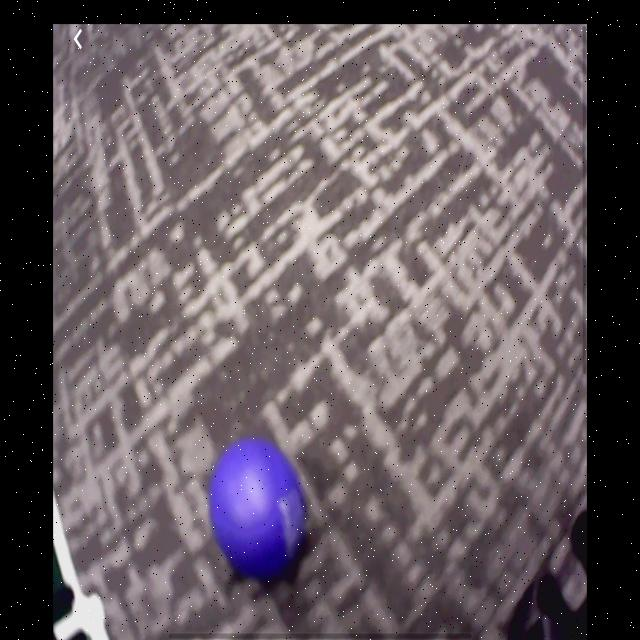ball: (214, 437, 306, 574)
